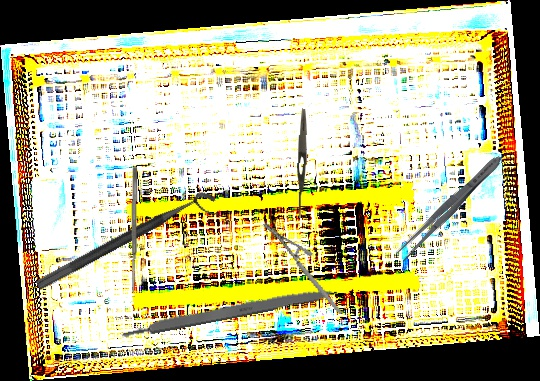Dressing Forceps: (393, 150, 507, 265), (295, 108, 309, 219)
Fixation Ring: (34, 187, 223, 305)
Needle Holder: (261, 208, 343, 329)
Scalpel Handle: (117, 282, 340, 341)
Spatula Surgical: (129, 165, 139, 295)
